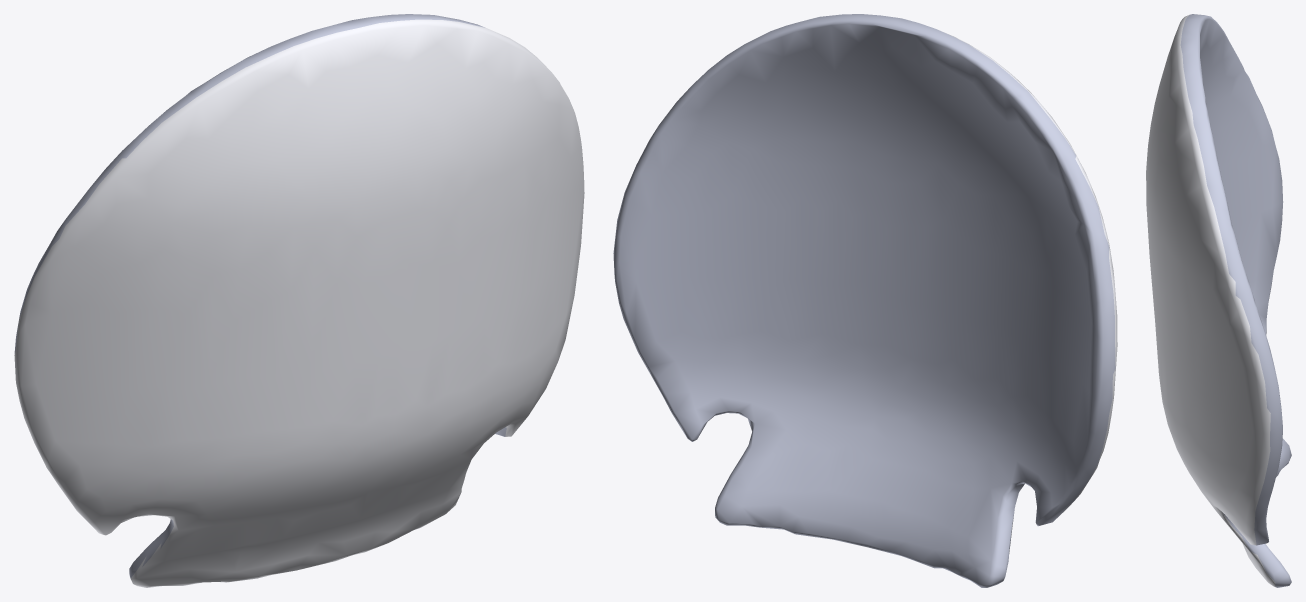
File: plate-skull.glb
3 renders of one model, left to right at view 1: azimuth 30°, elevation 25°; view 2: azimuth 150°, elevation 25°; view 3: azimuth 270°, elevation 25°, orthographic. The views are drawn at different scales.
Parts seen in each view (by area): view 1: plate-skull; view 2: plate-skull; view 3: plate-skull.
Part boxes in pixels (x1,y1,x2,y2): plate-skull: (14,14,584,587); plate-skull: (613,14,1117,587); plate-skull: (1146,14,1291,587).
Size of the model in its own units: 0.5755 by 0.5477 by 0.1491.
